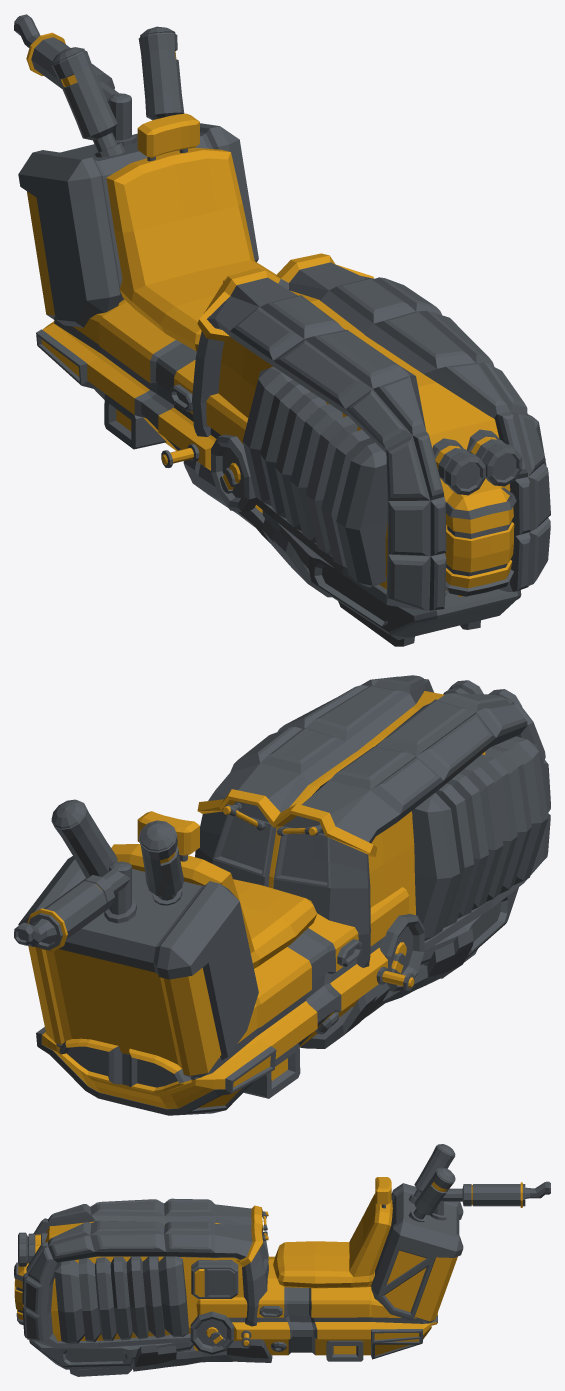
File: Personal_Vehicle_02_Yellow.fbx
3 renders of one model, top to bottom at view 1: azimuth 30°, elevation 25°; view 2: azimuth 150°, elevation 25°; view 3: azimuth 270°, elevation 25°, orthographic. The views are drawn at different scales.
Parts seen in each view (by area): view 1: Personal_Vehicle_02_Yellow; view 2: Personal_Vehicle_02_Yellow; view 3: Personal_Vehicle_02_Yellow.
Part boxes in pixels (x1,y1,x2,y2): Personal_Vehicle_02_Yellow: (14,14,550,646); Personal_Vehicle_02_Yellow: (14,675,550,1115); Personal_Vehicle_02_Yellow: (14,1144,550,1376).
Size of the model in its own units: 131 by 184 by 429.
Materials: 2 (2 with a texture image).
